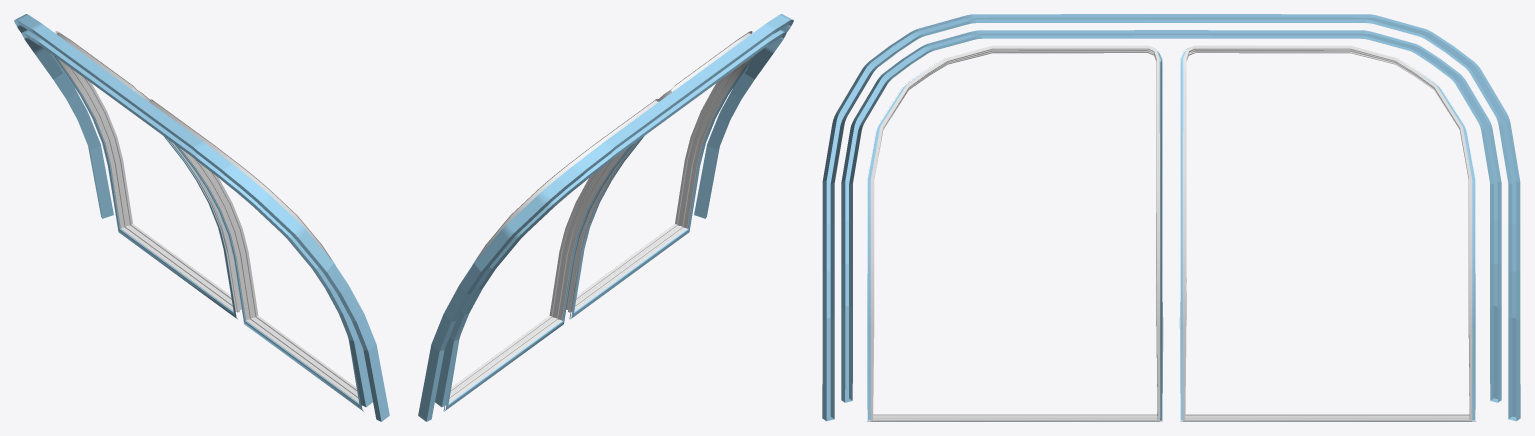
File: walls1.0.fbx
3 views of the same model, side by side, from view 1: azimuth 30°, elevation 25°; view 2: azimuth 150°, elevation 25°; view 3: azimuth 270°, elevation 25° (orthographic). The views are drawn at different scales.
Parts seen in each view (by area): view 1: walls1_0.001; view 2: walls1_0.001; view 3: walls1_0.001.
Boxes of the visible parts, x1,y1,x2,y2 form: walls1_0.001: (14, 14, 389, 421); walls1_0.001: (418, 14, 793, 421); walls1_0.001: (822, 14, 1520, 421).
Bounding box in the file's own units: 1.87 × 3.4 × 6.47.
